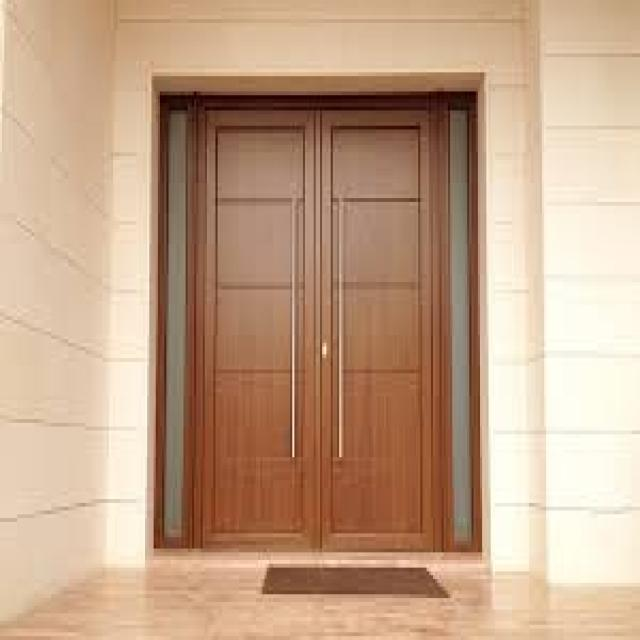door: (197, 95, 447, 552)
